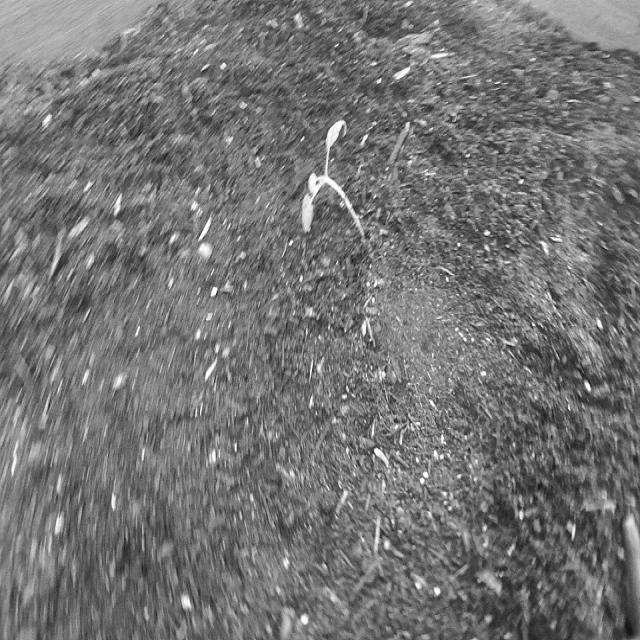Healthy: (291, 104, 383, 262)
